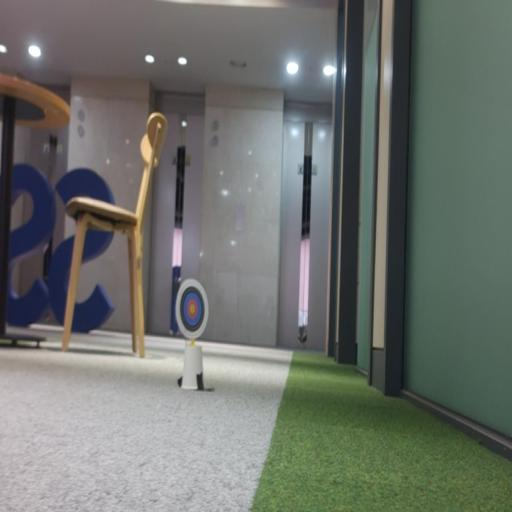target: (175, 279, 208, 339)
